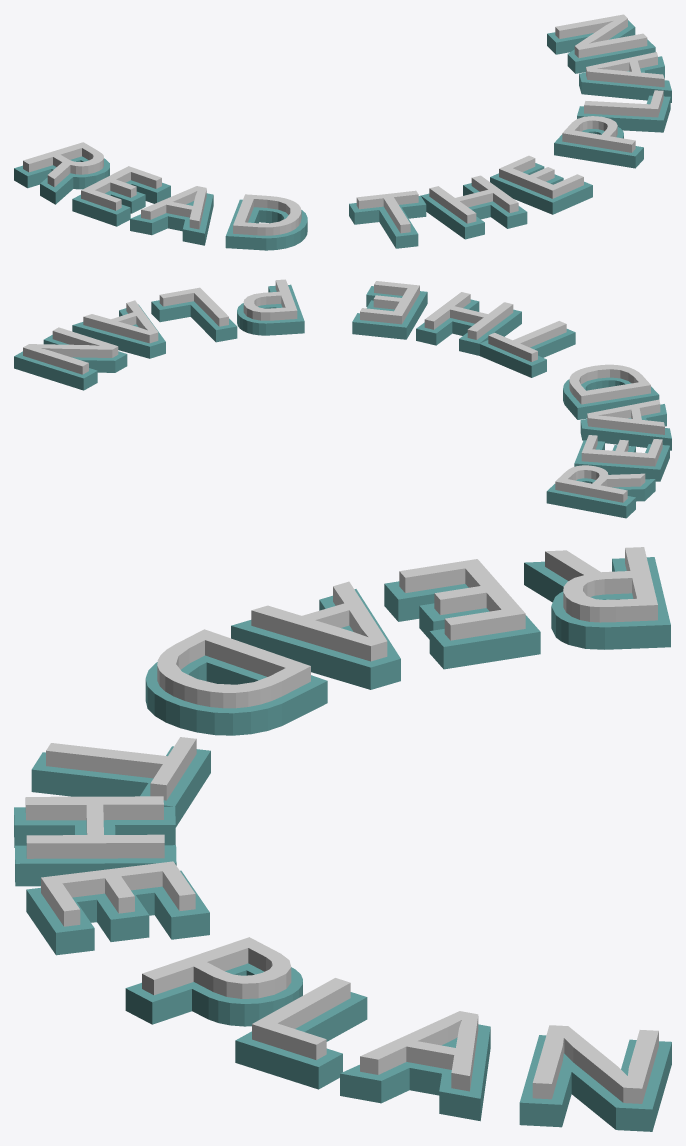
The model's file is SIDE6-title.glb.
The picture shows the model from 3 angles, top to bottom: view 1: azimuth 30°, elevation 25°; view 2: azimuth 150°, elevation 25°; view 3: azimuth 270°, elevation 25°; orthographic projection. The views are drawn at different scales.
Visible parts, largest first — view 1: Mesh_Mesh_head_geo.001_lambert2SG.001; view 2: Mesh_Mesh_head_geo.001_lambert2SG.001; view 3: Mesh_Mesh_head_geo.001_lambert2SG.001.
Boxes of the visible parts, x1,y1,x2,y2 form: Mesh_Mesh_head_geo.001_lambert2SG.001: [14, 14, 671, 250]; Mesh_Mesh_head_geo.001_lambert2SG.001: [14, 279, 671, 518]; Mesh_Mesh_head_geo.001_lambert2SG.001: [14, 547, 671, 1131].
Bounding box in the file's own units: 199 × 6.34 × 100.
